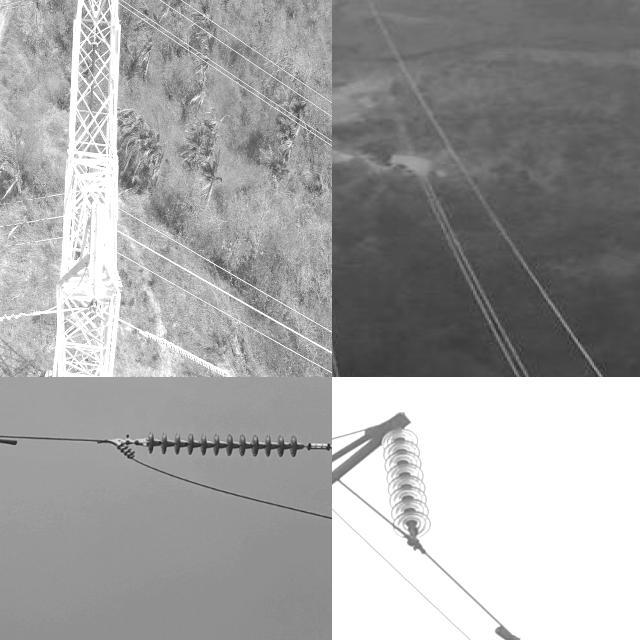杆塔: (332, 377, 531, 640), (43, 0, 128, 377), (332, 0, 378, 275)
正常电缆: (356, 0, 638, 377)
正常绝缘子: (112, 421, 320, 475), (370, 410, 439, 555)
